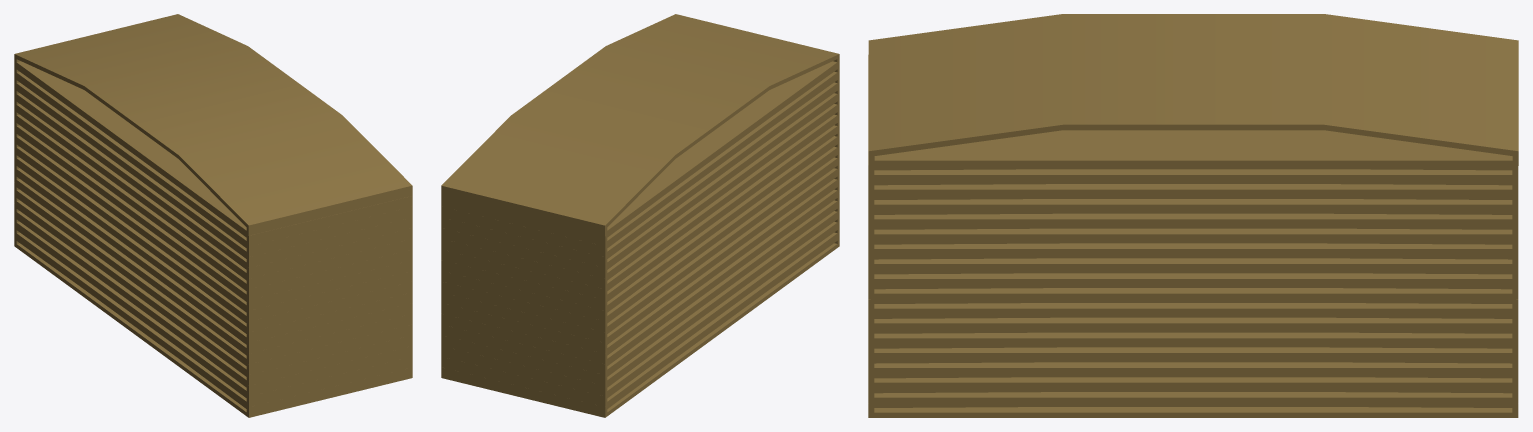
The model's file is Cardboard_sleeve_stack.fbx.
3 renders of one model, left to right at view 1: azimuth 30°, elevation 25°; view 2: azimuth 150°, elevation 25°; view 3: azimuth 270°, elevation 25°, orthographic. The views are drawn at different scales.
Visible parts, largest first — view 1: Cloner; view 2: Cloner; view 3: Cloner.
Boxes of the visible parts, box(x1,y1,x2,y2) form: Cloner: box(14, 14, 412, 417); Cloner: box(441, 14, 839, 417); Cloner: box(868, 14, 1518, 417).
Bounding box in the file's own units: 200 × 247 × 496.
Materials: 1 (1 with a texture image).
